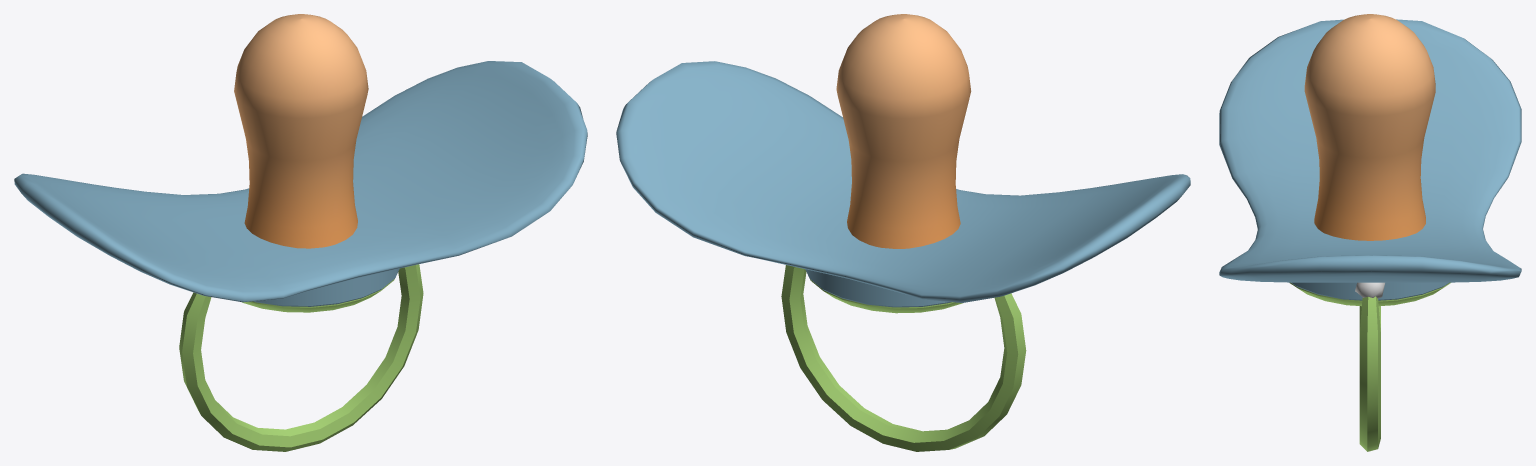
Rendered from Nipple_M.fbx.
3 views of the same model, side by side, from view 1: azimuth 30°, elevation 25°; view 2: azimuth 150°, elevation 25°; view 3: azimuth 270°, elevation 25° (orthographic). The views are drawn at different scales.
Visible parts, largest first — view 1: Nipple_M; view 2: Nipple_M; view 3: Nipple_M.
Part boxes in pixels (x1,y1,x2,y2): Nipple_M: [14, 14, 587, 451]; Nipple_M: [616, 14, 1190, 451]; Nipple_M: [1219, 14, 1521, 451].
Size of the model in its own units: 40.97 by 32.66 by 21.36.
1 material, 1 textured.
